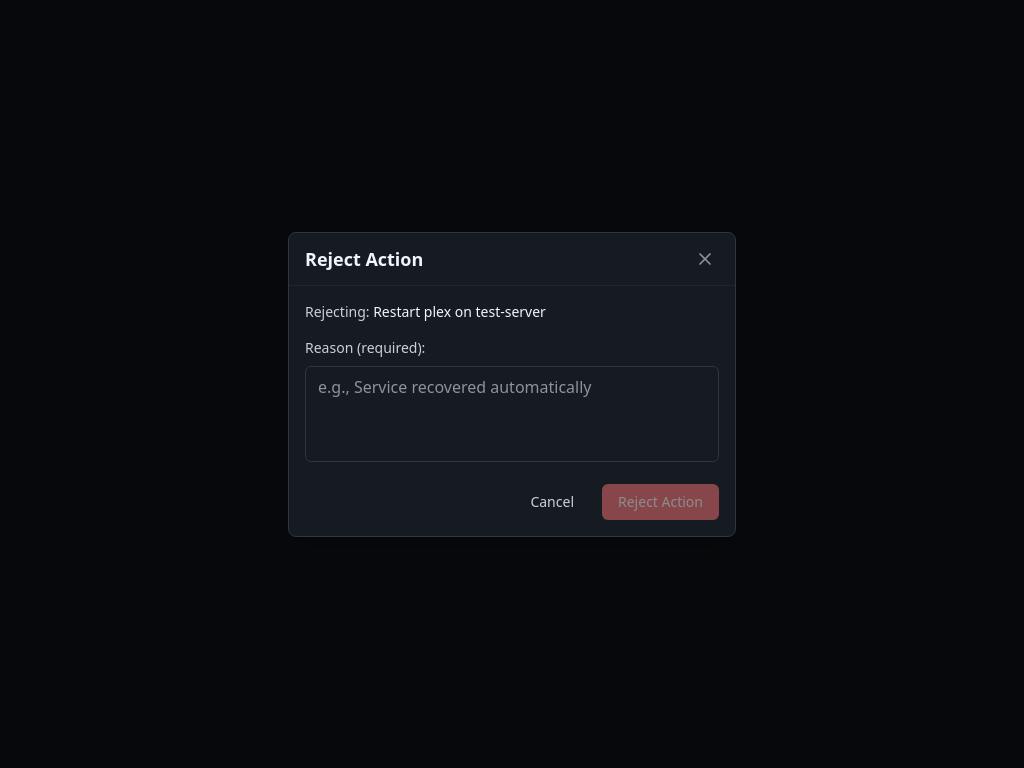
Test case: RejectModal › Form validation › enables submit button when reason is provided
In the text box with test id "reject-reason-input": (512, 414) top-left (305, 366), bottom-right (719, 462), type "Service recovered"
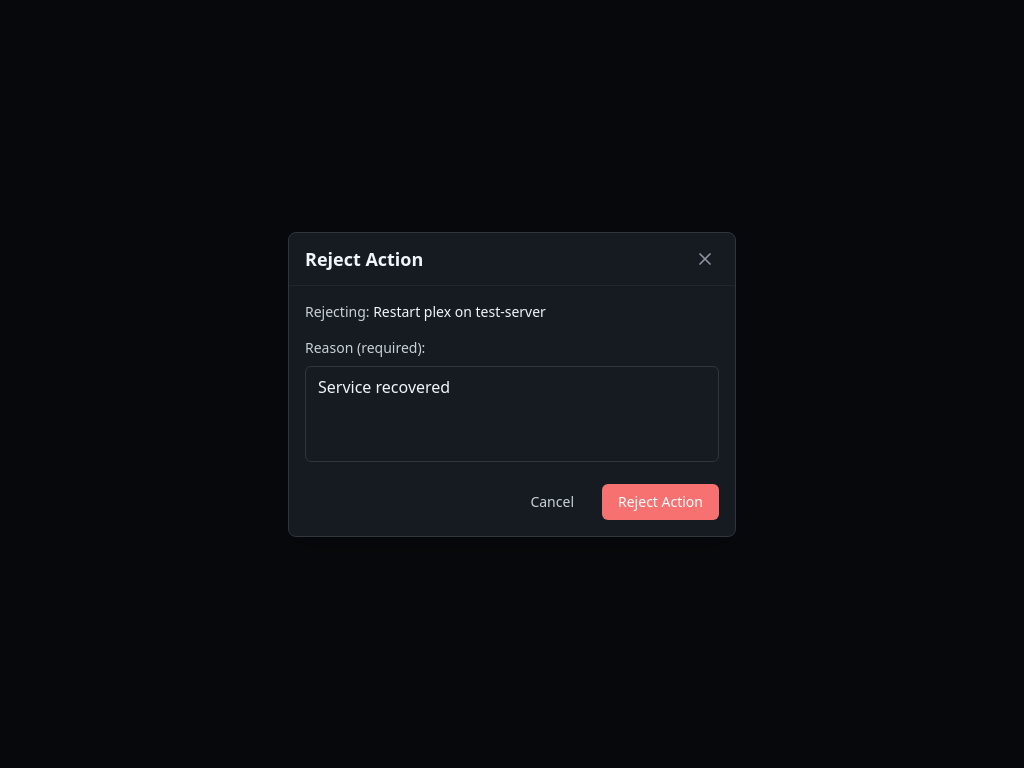
Now the button with test id "reject-modal-submit" is enabled, box top-left (602, 484), bottom-right (719, 520)
